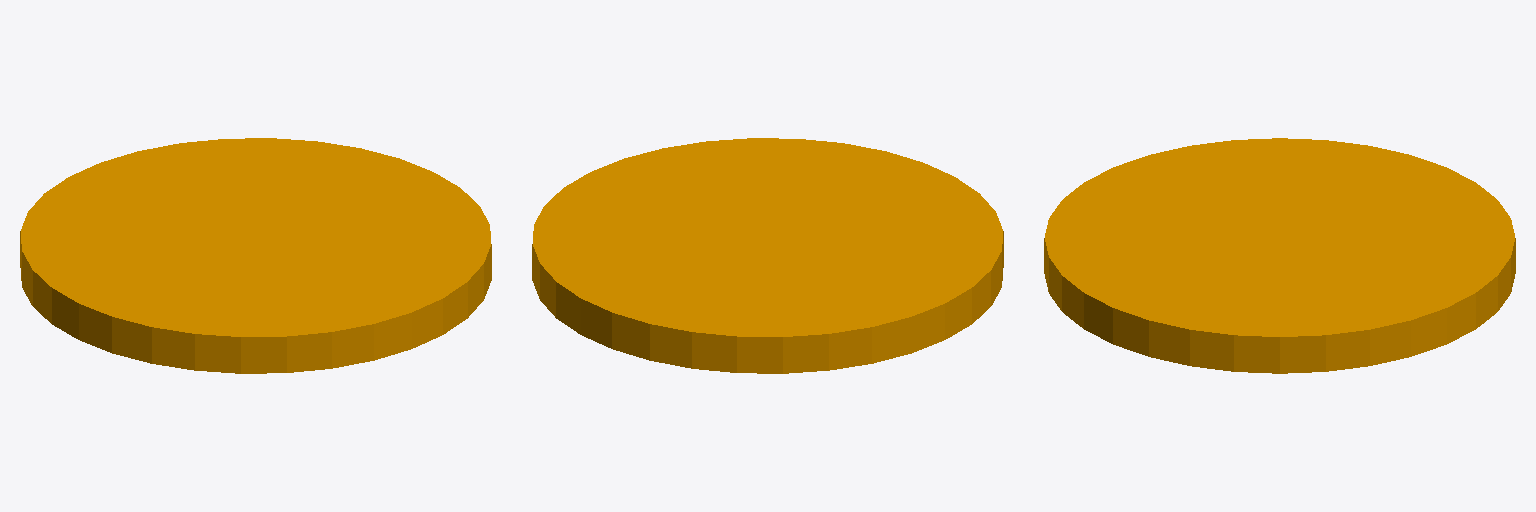
The robot description file, URDF, robot "object":
<?xml version="1.0"?>
<robot name="object">
  <link name="object">
    <visual>
      <origin xyz="0 0 0"/>
      <geometry>
        <cylinder length="0.6" radius="3.5"/>
      </geometry>
    </visual>
    <collision>
      <origin xyz="0 0 0"/>
      <geometry>
        <cylinder length="0.6" radius="3.5"/>
      </geometry>
    </collision>
    <inertial>
      <density value="500.0"/>
    </inertial>
  </link>
</robot>

--- Facts derived from the render (not from the file) ---
Views: 3 orthographic renders of the robot side by side, from view 1: azimuth 30°, elevation 25°; view 2: azimuth 150°, elevation 25°; view 3: azimuth 270°, elevation 25°.
Robot: object — 1 links, 0 joints (none); root link object; default pose: all joints at 0.
Visible links, largest first — view 1: object; view 2: object; view 3: object.
Boxes of the visible links, x1,y1,x2,y2 form: object: [20, 138, 491, 373]; object: [532, 138, 1003, 373]; object: [1044, 138, 1515, 373].
Bounding box of the posed robot: 7 × 7 × 0.6 m (x, y, z).
Geometry: primitives only (box / cylinder / sphere), no mesh files.